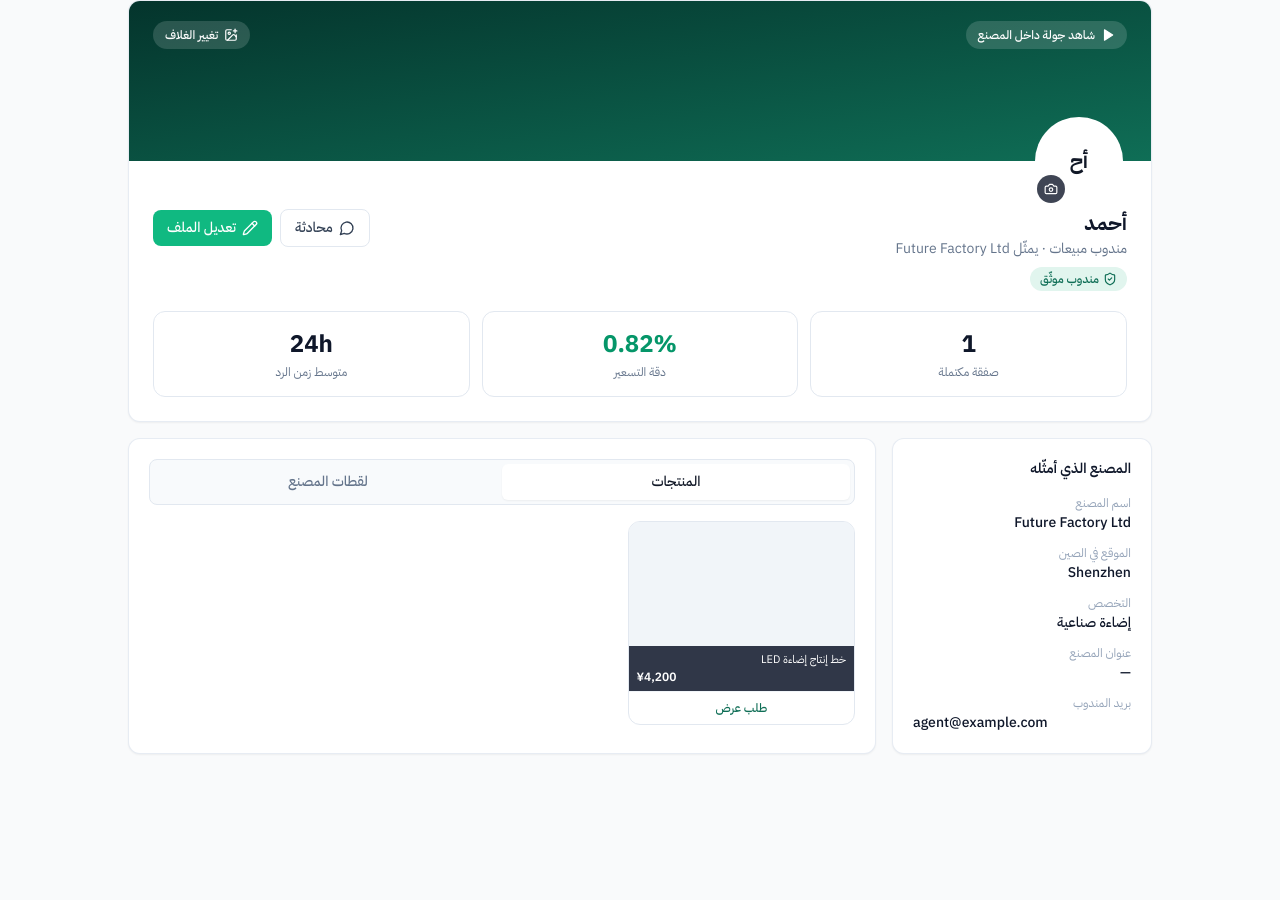
Test case: SupplierProfileDesktop › switches to the 'لقطات المصنع' tab showing an honest zero RFQ count
The width and height of the screenshot is (1280, 900).
Expected: the text "Future Factory Ltd" is shown, [1014,512,1131,533]
Step 1. Click the button "لقطات المصنع" → (328,482), box [154,464,502,500]
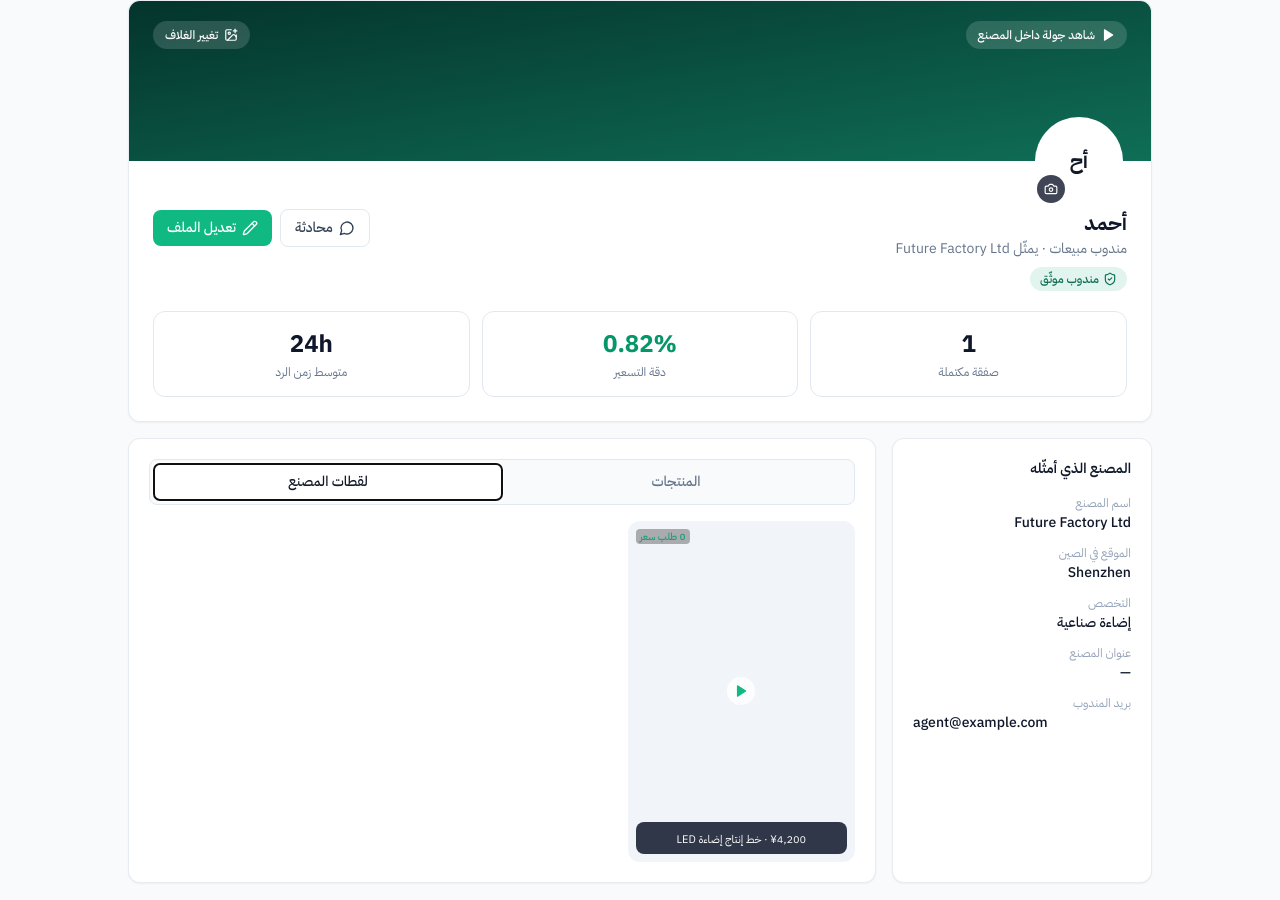
Result: the text "0 طلب سعر" is shown at [636,529,690,544]
